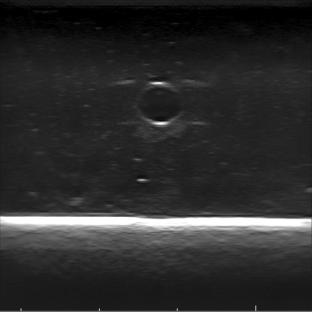vessel: (137, 81, 185, 126)
